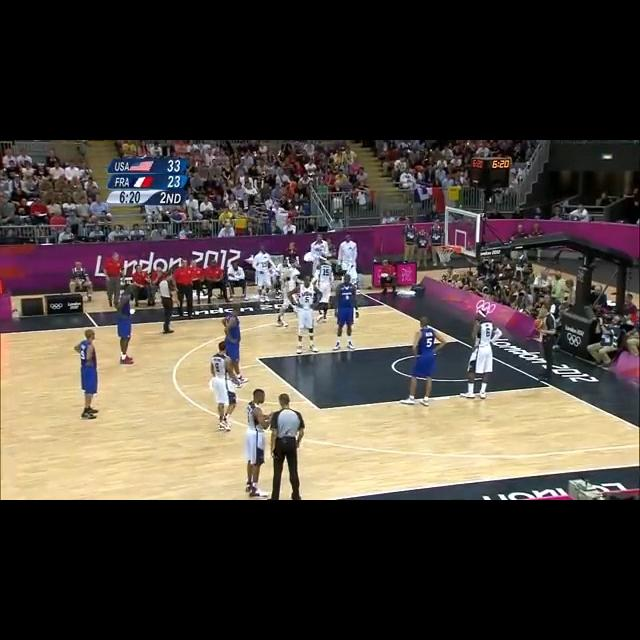hoop: (439, 245, 455, 262)
person: (265, 393, 305, 500), (404, 317, 439, 407), (334, 272, 359, 339), (155, 265, 176, 335), (103, 250, 124, 306), (29, 198, 49, 226)
